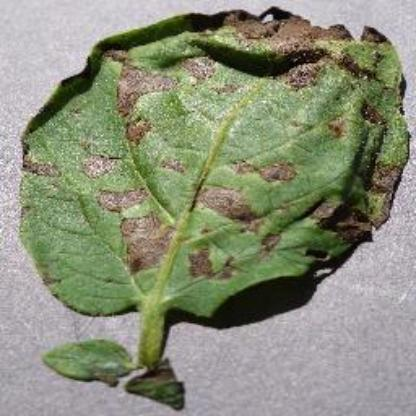Early-Blight: (19, 4, 414, 408)
